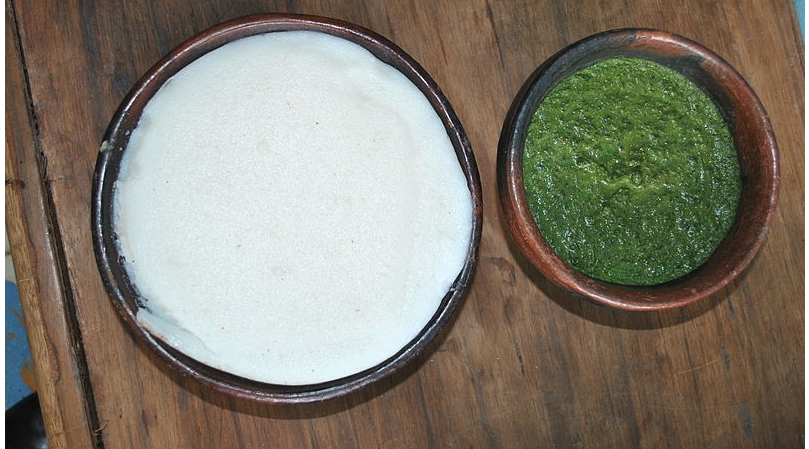sauce_tchoron: (541, 124, 721, 234)
toh_de_mais: (245, 206, 409, 329)
